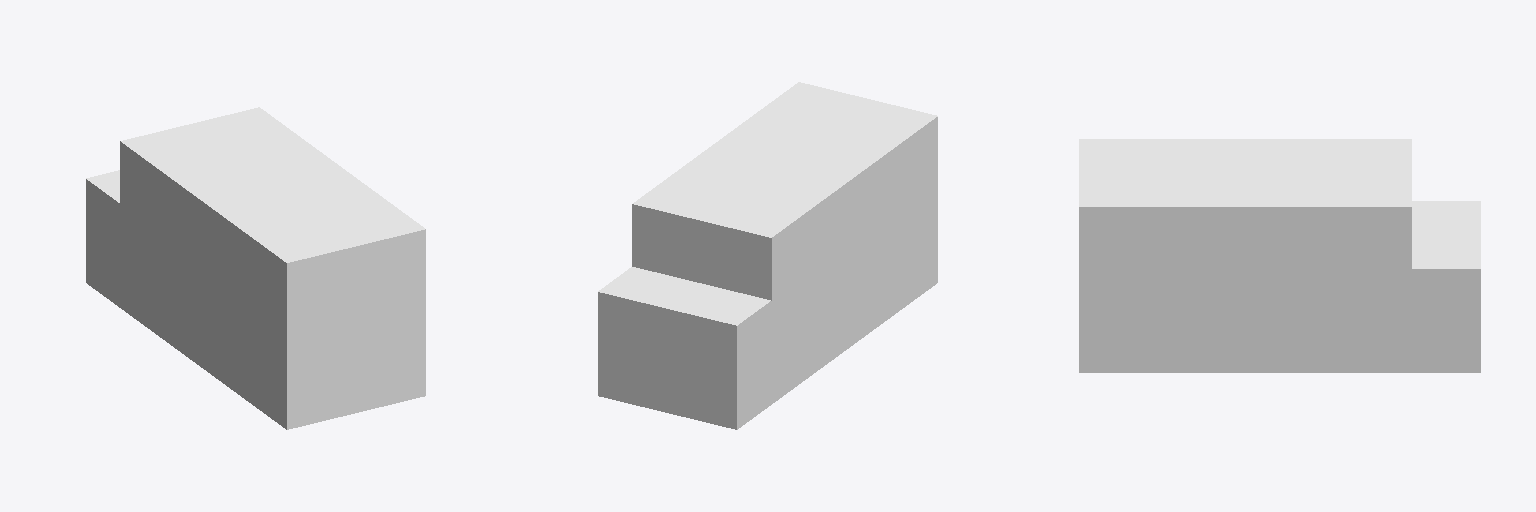
The model's file is car2.obj.
The picture shows the model from 3 angles: view 1: azimuth 30°, elevation 25°; view 2: azimuth 150°, elevation 25°; view 3: azimuth 270°, elevation 25°; orthographic projection.
Parts seen in each view (by area): view 1: object 1; view 2: object 1; view 3: object 1.
Boxes of the visible parts, <box> form: object 1: <box>86,107,425,429</box>; object 1: <box>598,82,937,429</box>; object 1: <box>1079,139,1480,372</box>.
Size of the model in its own units: 1.4 by 1.6 by 3.5.